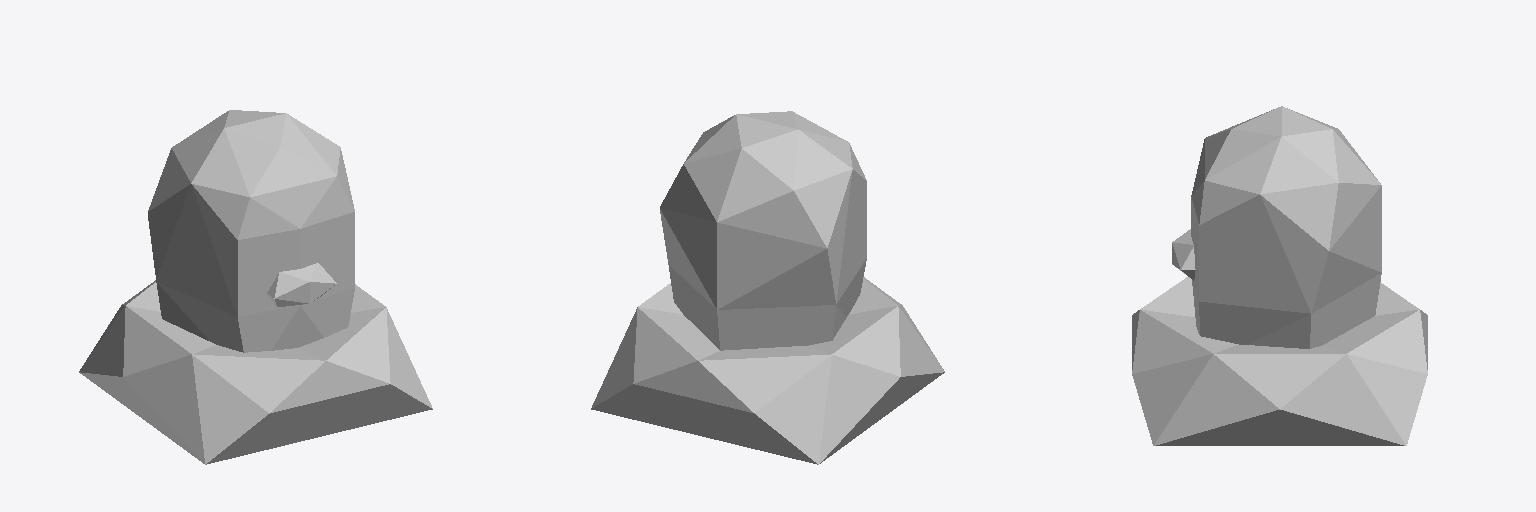
Rendered from diglett.obj.
The picture shows the model from 3 angles: view 1: azimuth 30°, elevation 25°; view 2: azimuth 150°, elevation 25°; view 3: azimuth 270°, elevation 25°; orthographic projection.
Visible parts, largest first — view 1: Pii_DHIGUDA_body2, Pii_DHIGUDA_eye; view 2: Pii_DHIGUDA_body2; view 3: Pii_DHIGUDA_body2.
Part boxes in pixels (left/top/right/bottom): Pii_DHIGUDA_body2: left=79, top=110, right=432, bottom=464; Pii_DHIGUDA_eye: left=238, top=212, right=354, bottom=316; Pii_DHIGUDA_body2: left=591, top=111, right=944, bottom=464; Pii_DHIGUDA_body2: left=1132, top=106, right=1427, bottom=445.
Size of the model in its own units: 4.98 by 4.83 by 4.81.